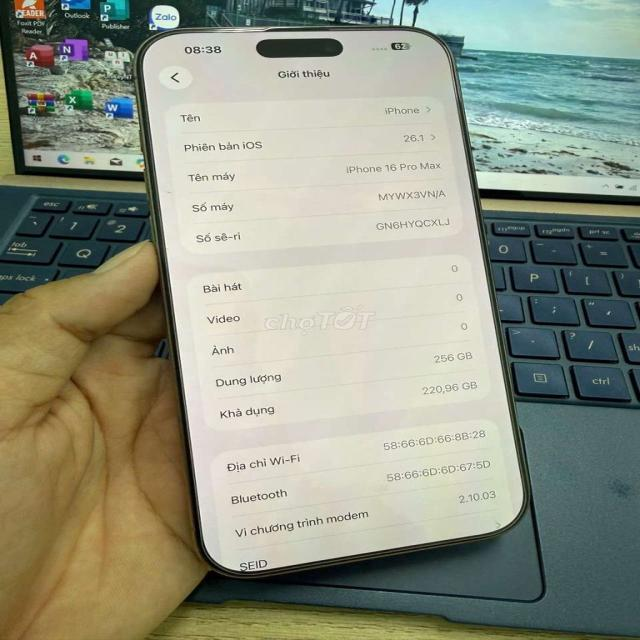gen_16: (137, 26, 528, 576)
